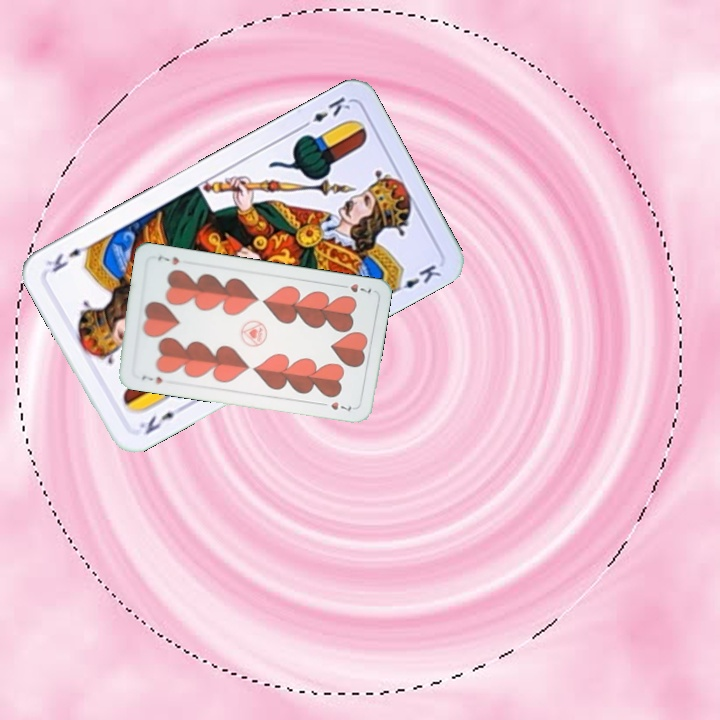EK: (296, 92, 353, 132), (135, 401, 188, 438)
H7: (335, 280, 374, 297), (137, 370, 165, 387)
